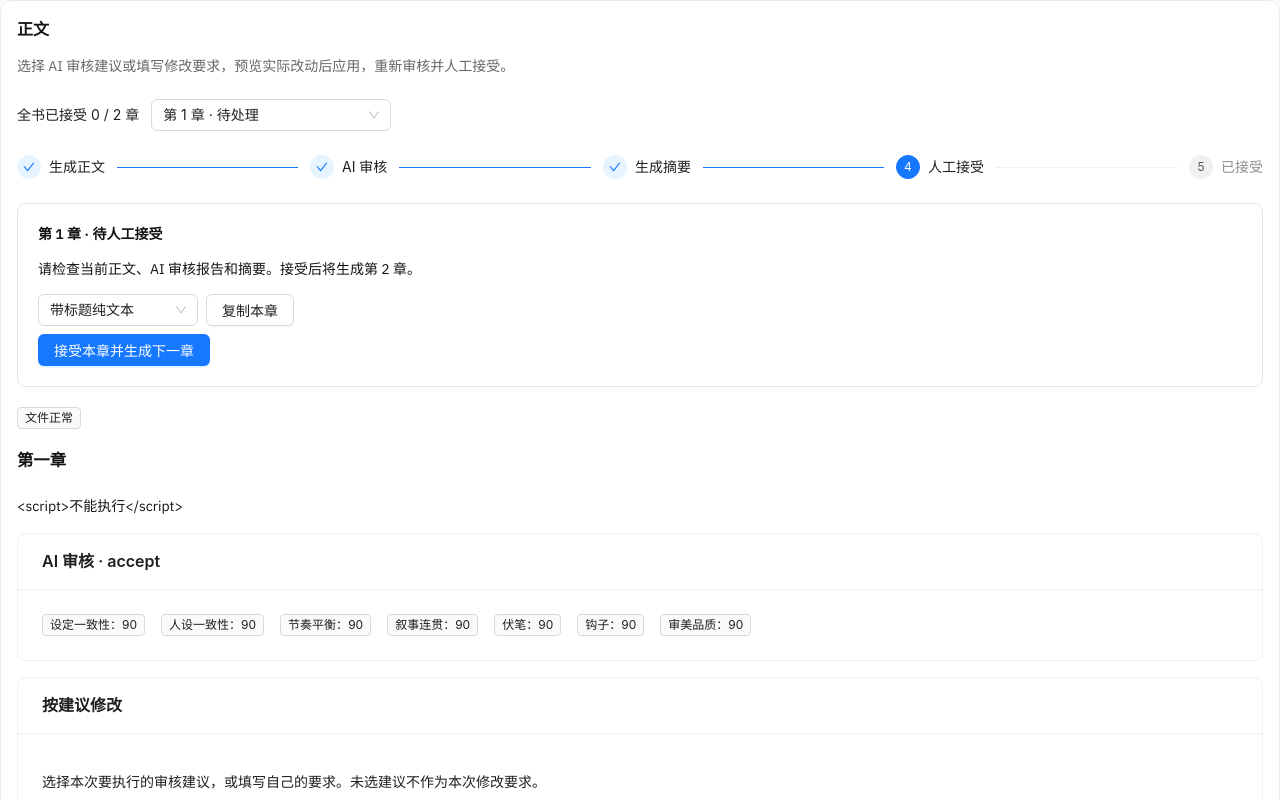
Test: 正文人工接受工作台 › 首次进入选择最早待处理章，查看后章时返回前文
Expected: the button "接受本章并生成下一章" is shown, [38,334,210,366]
Press the mouse on the dropdown named "选择正文章节" at {"x": 211, "y": 114}, box [163,106,259,123]
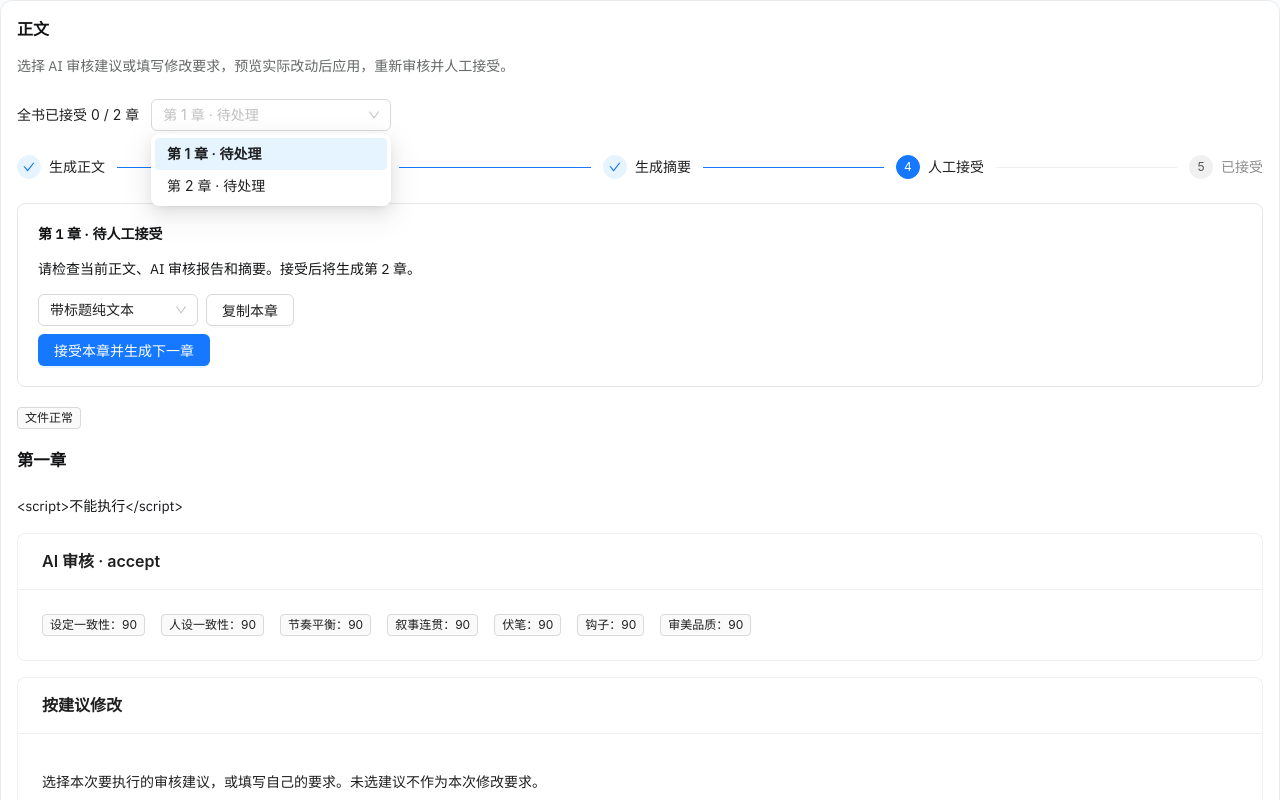
Click the text "第 2 章 · 待处理".
click(216, 186)  # box [167,177,265,194]
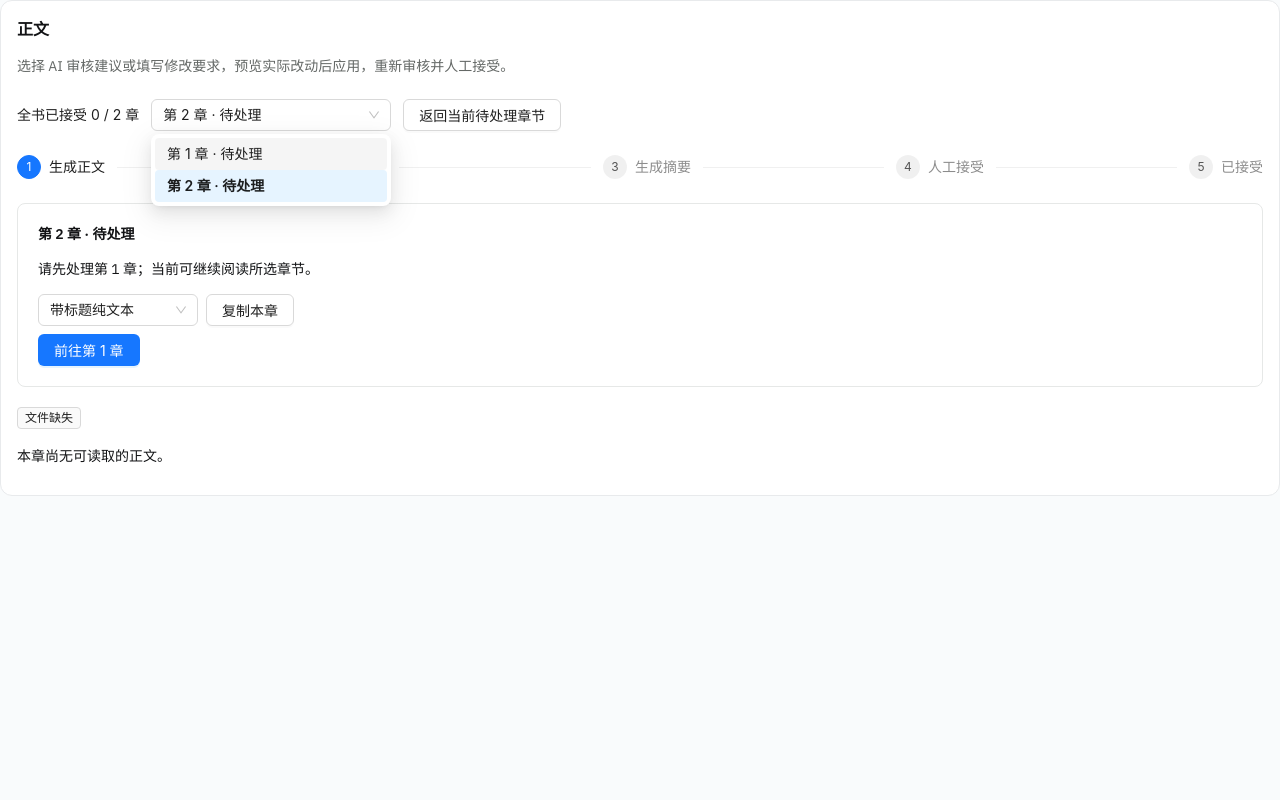
Expected: the text "生成正文" is shown, [49,158,105,175]
Expected: the button "前往第 1 章" is shown
Click the button "前往第 1 章".
click(89, 350)  # box [38,334,140,366]
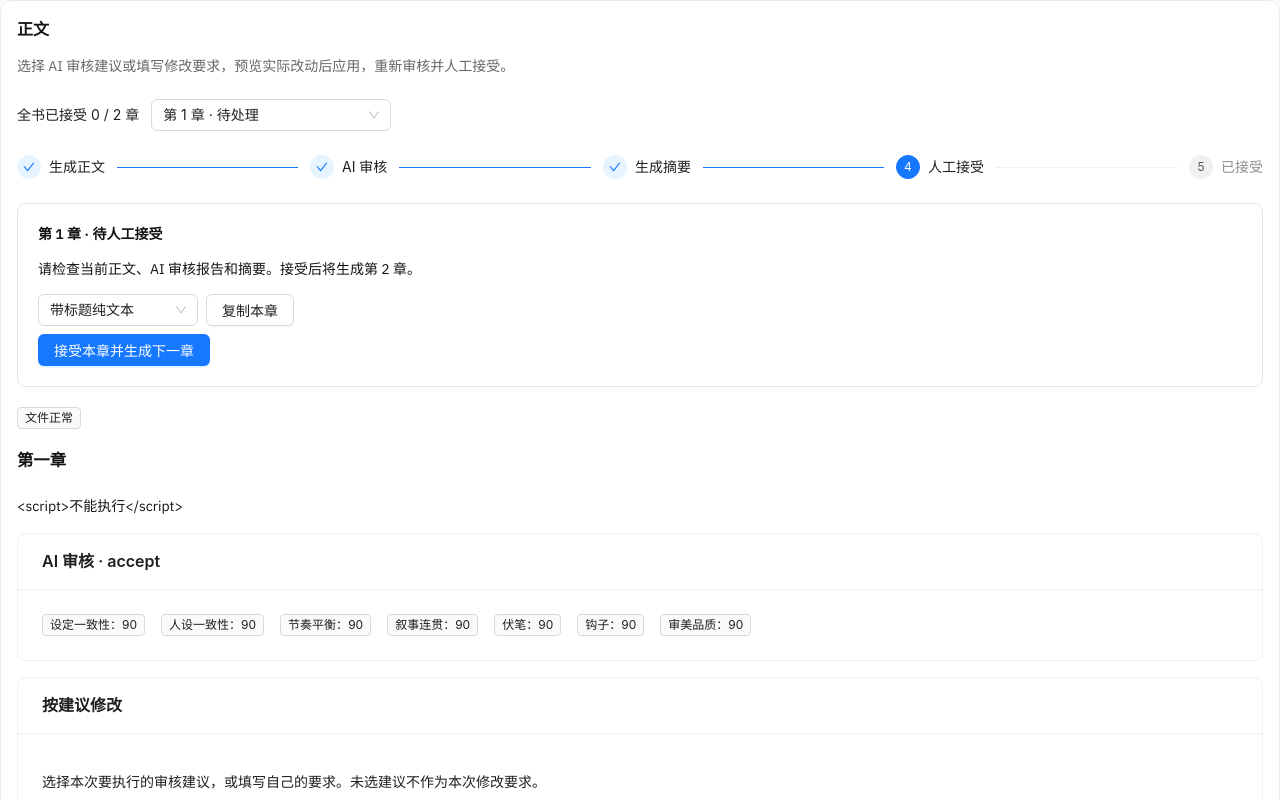
Expected: the button "接受本章并生成下一章" is shown, [38,334,210,366]
